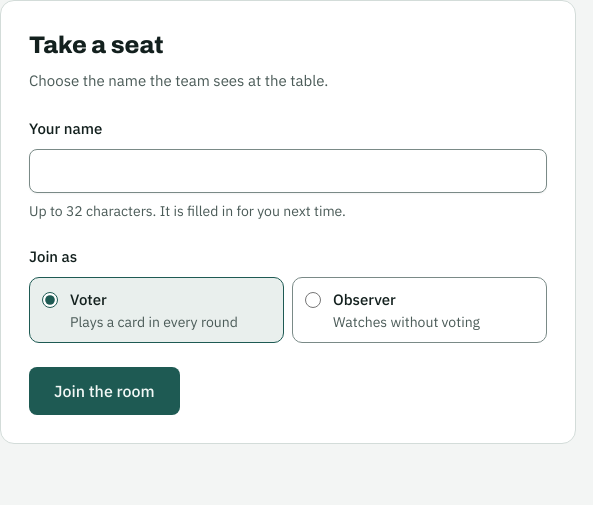
Test case: the join form › shows what the server or the network said
Type "Eve" into the field labelled "Your name" at (288, 171), box [29,149,547,193]
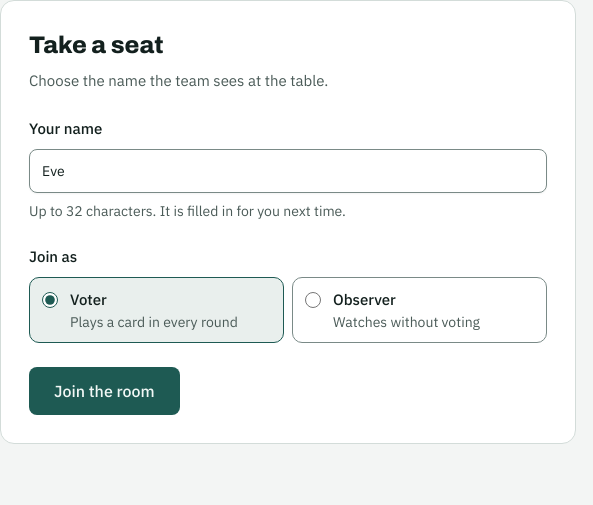
Click the button "Join the room" at (104, 391), box [29,367,180,415]
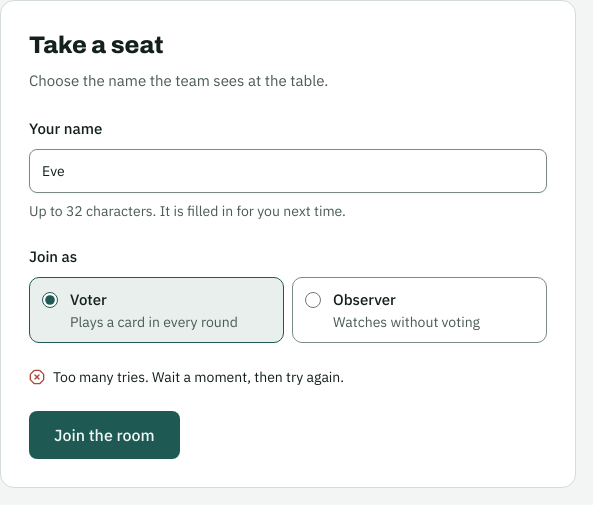
Now the message shows "Too many tries", box [53,368,344,386]
Click the button "Join the room" at (104, 435), box [29,411,180,459]
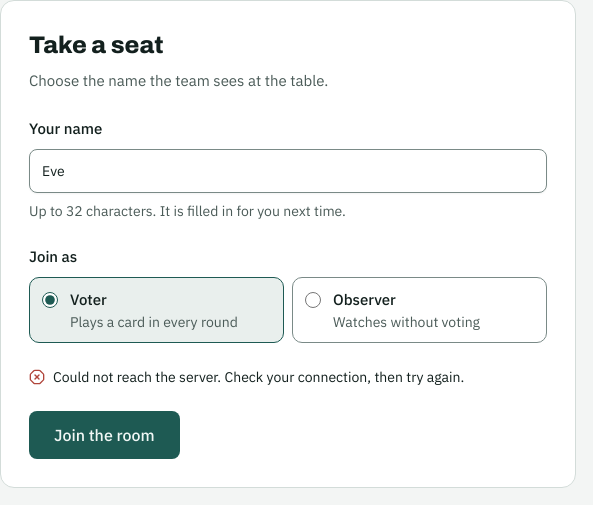
Now the message shows "Could not reach", box [53,368,464,386]
Click the button "Join the room" at (104, 435), box [29,411,180,459]
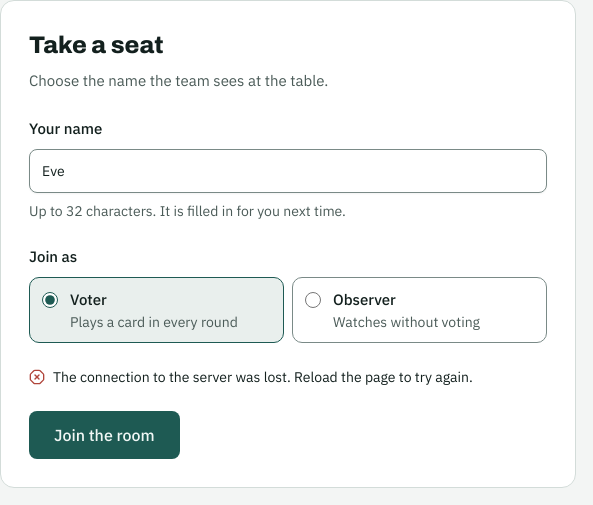
Now the message shows "connection", box [53,368,473,386]
Click the button "Join the room" at (104, 435), box [29,411,180,459]
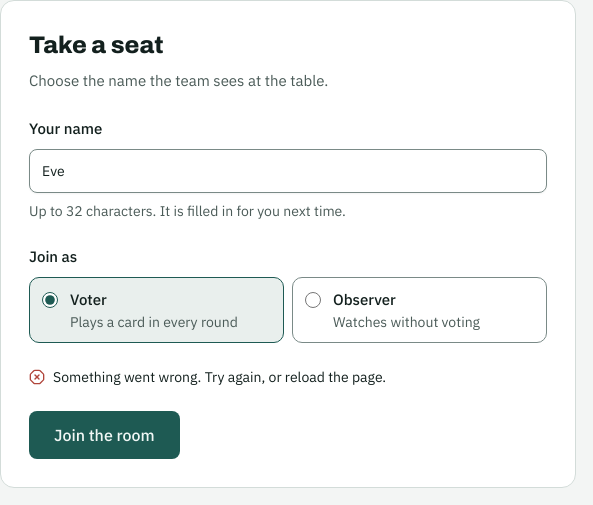
Now the message reads "Something went wrong. Try again, or reload the page.", box [53,368,386,386]
Click the button "Join the room" at (104, 435), box [29,411,180,459]
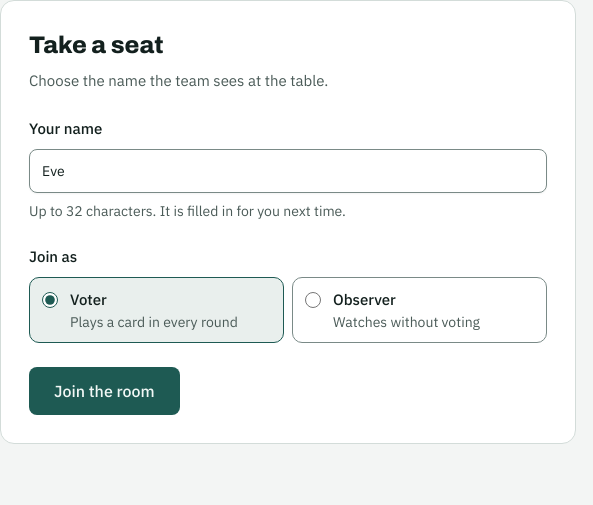
Now the message "Something went wrong. Try again, or reload the page." is gone
